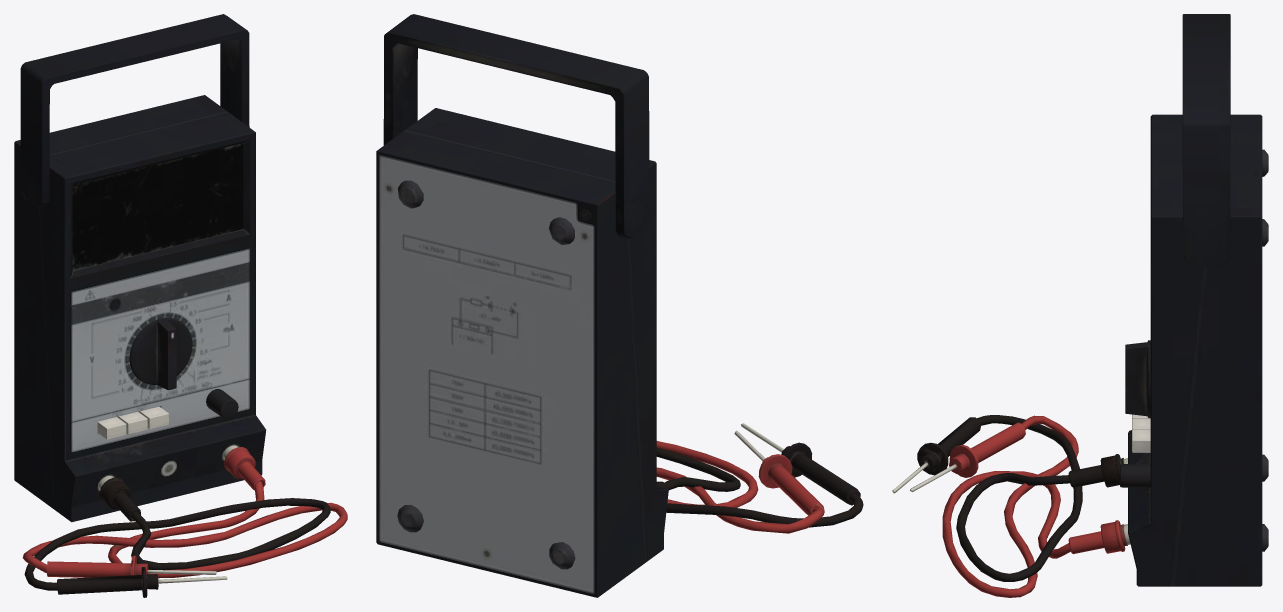
Rendered from multimeter.glb.
3 views of the same model, side by side, from view 1: azimuth 30°, elevation 25°; view 2: azimuth 150°, elevation 25°; view 3: azimuth 270°, elevation 25° (orthographic). The views are drawn at different scales.
Visible parts, largest first — view 1: retro_multimeter_LOD0, retro_multimeter_cables_LOD0, retro_multimeter_handle_LOD0, retro_multimeter_dial_LOD0, retro_multimeter_buttons_LOD0, retro_multimeter_knob_LOD0; view 2: retro_multimeter_LOD0, retro_multimeter_handle_LOD0, retro_multimeter_cables_LOD0; view 3: retro_multimeter_LOD0, retro_multimeter_cables_LOD0, retro_multimeter_handle_LOD0, retro_multimeter_dial_LOD0, retro_multimeter_knob_LOD0, retro_multimeter_buttons_LOD0.
Boxes of the visible parts, x1,y1,x2,y2 form: retro_multimeter_LOD0: (14, 95, 266, 522); retro_multimeter_cables_LOD0: (22, 445, 347, 597); retro_multimeter_handle_LOD0: (20, 14, 249, 207); retro_multimeter_dial_LOD0: (129, 318, 192, 390); retro_multimeter_buttons_LOD0: (97, 406, 168, 439); retro_multimeter_knob_LOD0: (206, 389, 238, 418); retro_multimeter_LOD0: (376, 108, 668, 597); retro_multimeter_handle_LOD0: (383, 14, 649, 238); retro_multimeter_cables_LOD0: (656, 423, 863, 533); retro_multimeter_LOD0: (1128, 114, 1268, 586); retro_multimeter_cables_LOD0: (892, 415, 1130, 597); retro_multimeter_handle_LOD0: (1182, 14, 1230, 266); retro_multimeter_dial_LOD0: (1125, 340, 1150, 418); retro_multimeter_knob_LOD0: (1120, 463, 1150, 487); retro_multimeter_buttons_LOD0: (1132, 414, 1150, 452).
Bounding box in the file's own units: 0.216 × 0.2785 × 0.2025.
2 materials, 2 textured.
